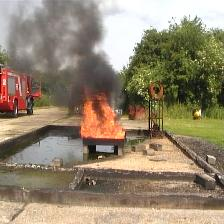fire: (80, 87, 126, 139)
